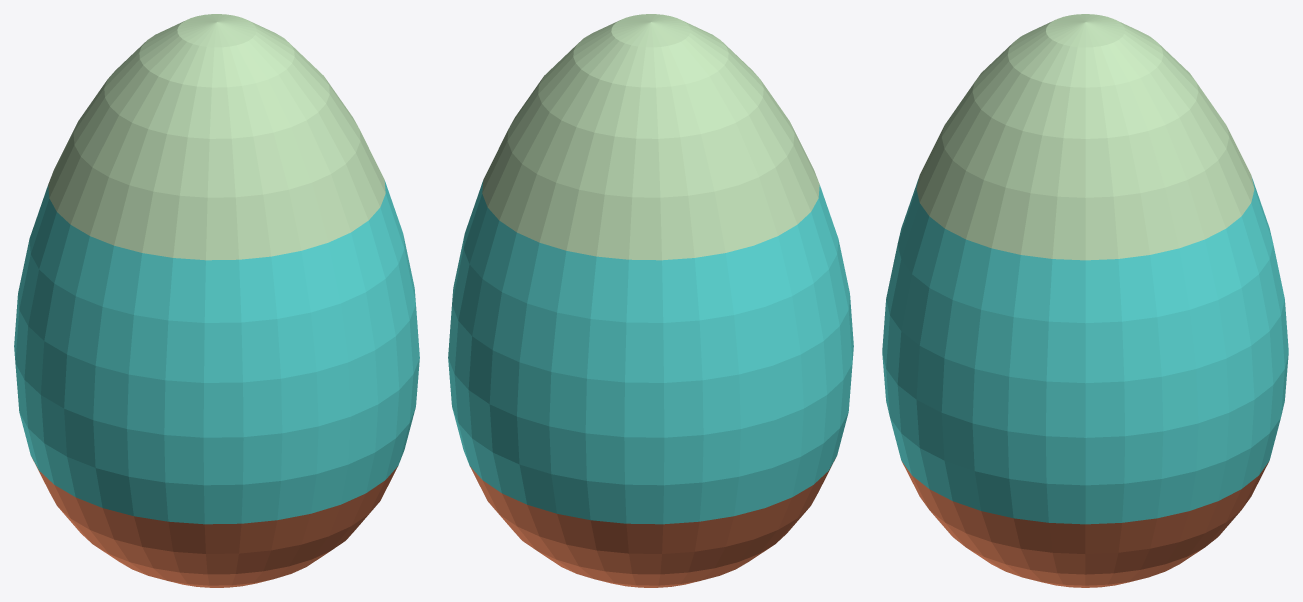
Rendered from egg.fbx.
The picture shows the model from 3 angles, left to right: view 1: azimuth 30°, elevation 25°; view 2: azimuth 150°, elevation 25°; view 3: azimuth 270°, elevation 25°; orthographic projection.
Parts seen in each view (by area): view 1: Sphere; view 2: Sphere; view 3: Sphere.
Part boxes in pixels (box(x1,y1,x2,y2)): Sphere: box(14, 14, 419, 587); Sphere: box(448, 14, 853, 587); Sphere: box(882, 14, 1288, 587).
Bounding box in the file's own units: 2 × 2.97 × 2.
